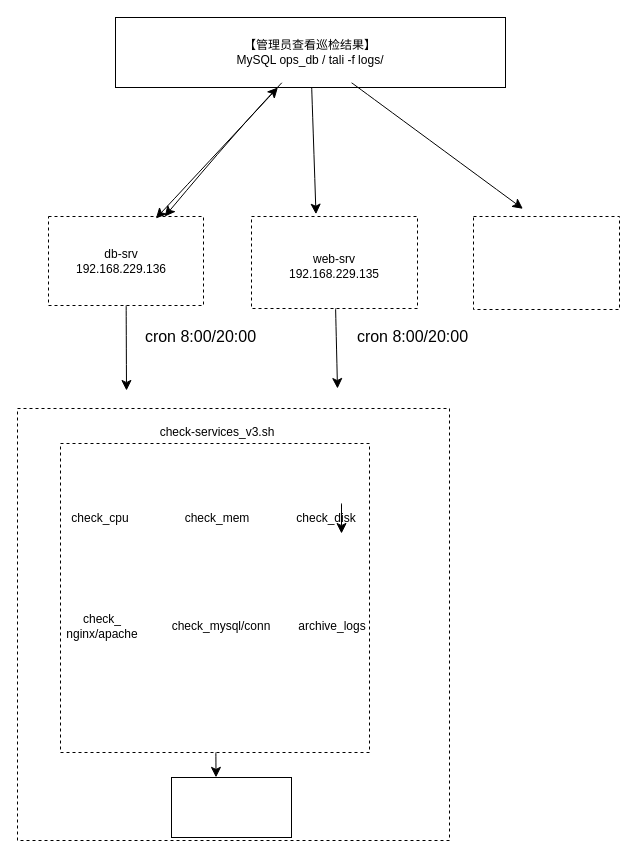
Some shapes in this 637 by 858 pixel diagram are drawn without their labels. The shapes that lost their labels are listed below. From the top down, each one's centre as x and y in pixels, then its label:
(x=546, y=263): 七天前日志归档 压缩到~/logs
(x=231, y=807): MySQL ops_db server_info
